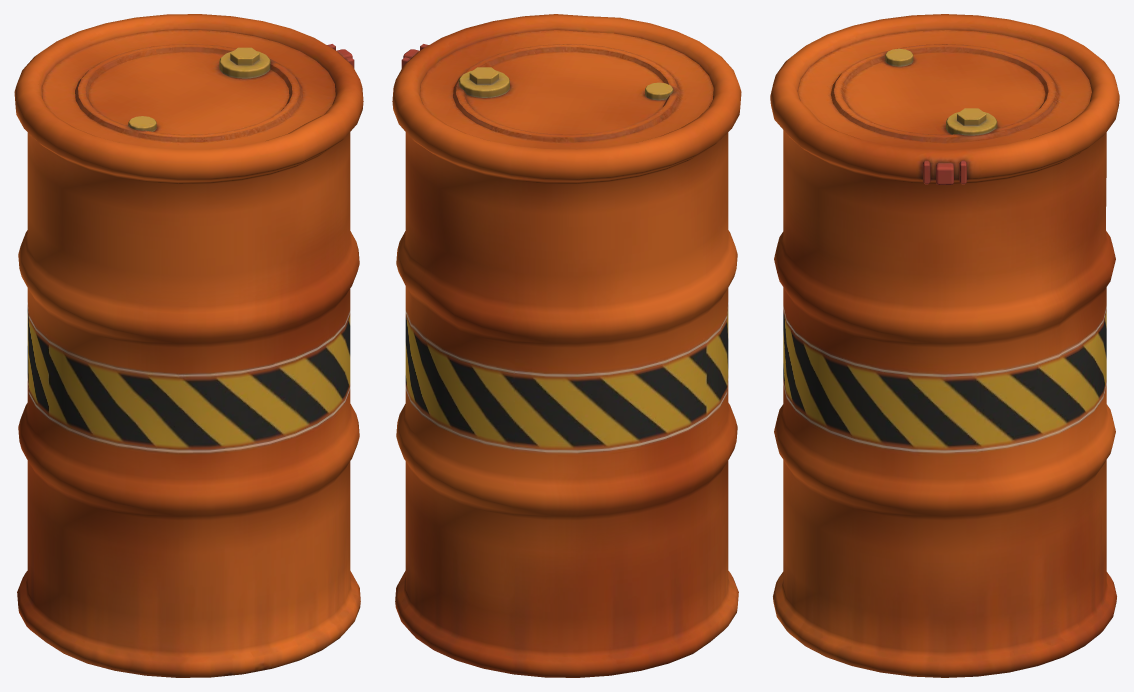
Rendered from barrel-v002.glb.
3 views of the same model, side by side, from view 1: azimuth 30°, elevation 25°; view 2: azimuth 150°, elevation 25°; view 3: azimuth 270°, elevation 25° (orthographic).
Parts seen in each view (by area): view 1: Barrel; view 2: Barrel; view 3: Barrel.
Boxes of the visible parts, x1=… form: Barrel: x1=14, y1=14, x2=363, y2=677; Barrel: x1=392, y1=14, x2=741, y2=677; Barrel: x1=770, y1=14, x2=1119, y2=677.
Size of the model in its own units: 0.4725 by 0.765 by 0.459.
Materials: 1 (1 with a texture image).
